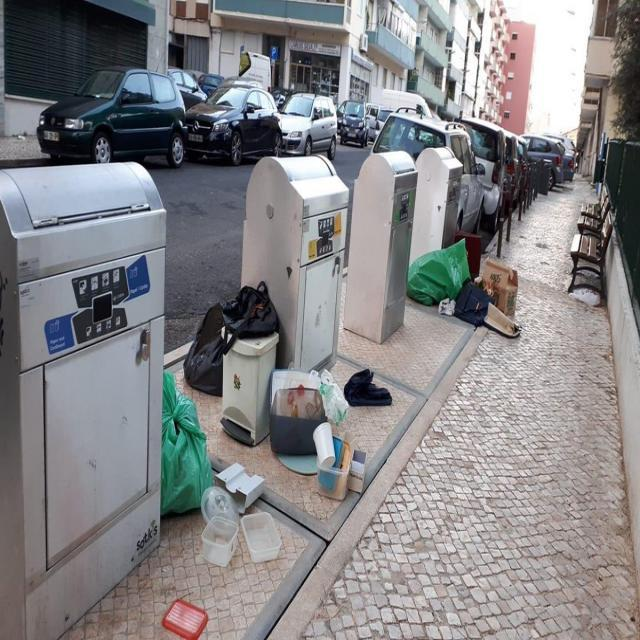garbage: (146, 277, 398, 573), (402, 234, 539, 342)
